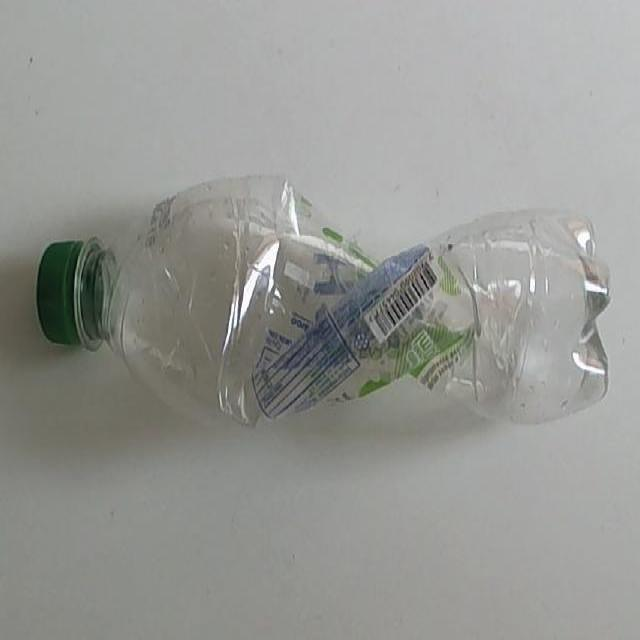defect: (33, 168, 616, 436)
